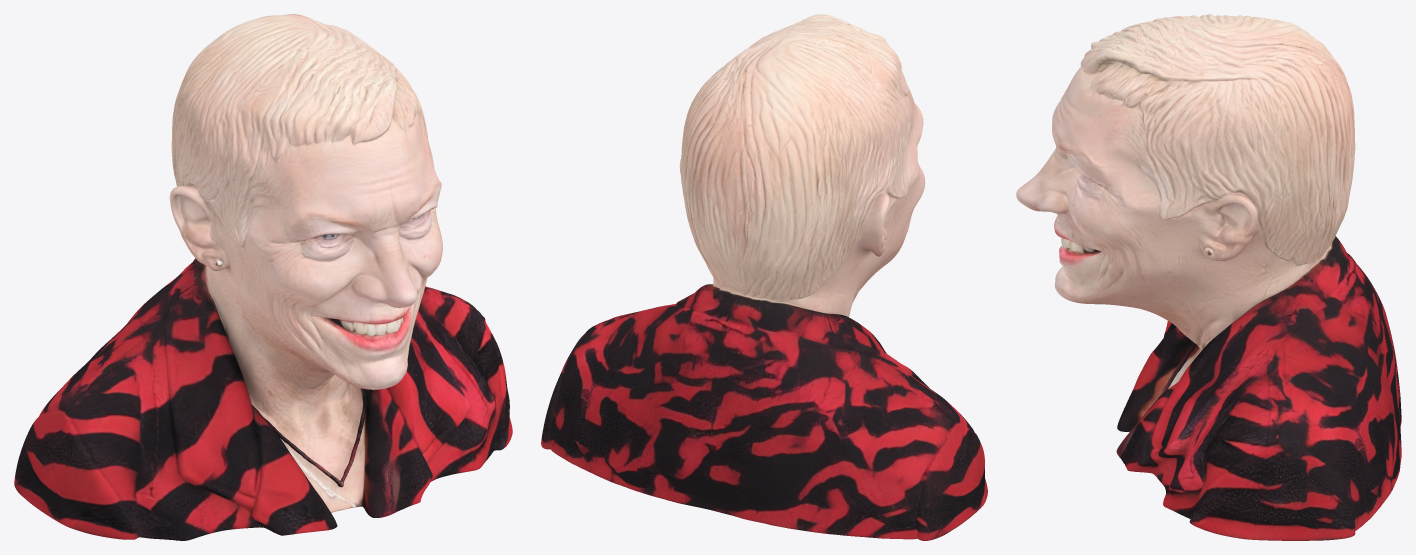
Rendered from base_basic_shaded.glb.
The picture shows the model from 3 angles, left to right: view 1: azimuth 30°, elevation 25°; view 2: azimuth 150°, elevation 25°; view 3: azimuth 270°, elevation 25°; orthographic projection. The views are drawn at different scales.
Parts seen in each view (by area): view 1: model; view 2: model; view 3: model.
Part boxes in pixels (x1=…): model: x1=14, y1=14, x2=512, y2=540; model: x1=541, y1=14, x2=987, y2=540; model: x1=1016, y1=14, x2=1401, y2=540.
Bounding box in the file's own units: 1.79 × 1.71 × 1.43.
Materials: 1 (1 with a texture image).
